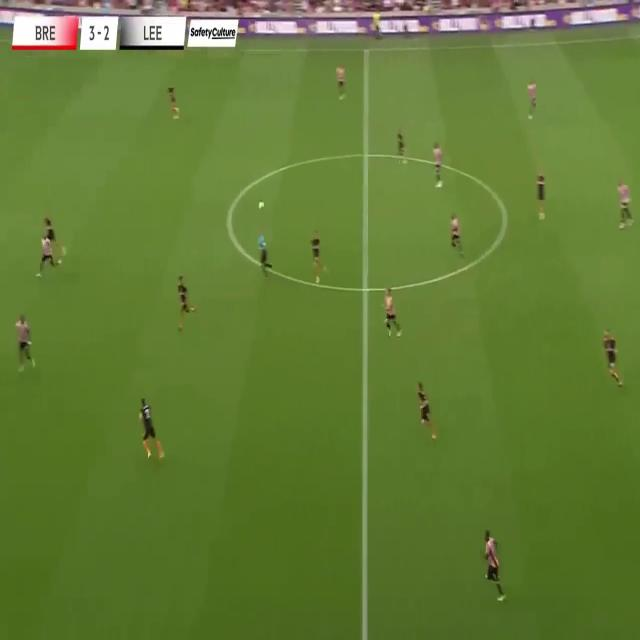ball: (258, 200, 266, 212)
team1: (138, 394, 162, 468), (172, 272, 198, 334), (416, 378, 436, 440), (603, 327, 623, 386), (311, 224, 326, 282), (46, 214, 65, 254), (394, 122, 408, 169), (536, 170, 549, 219), (165, 83, 180, 120)
team2: (482, 520, 504, 602), (37, 233, 64, 282), (16, 309, 33, 376), (616, 176, 635, 233), (384, 286, 401, 339), (332, 55, 350, 103), (430, 140, 446, 190), (447, 209, 463, 255), (525, 77, 540, 123)
